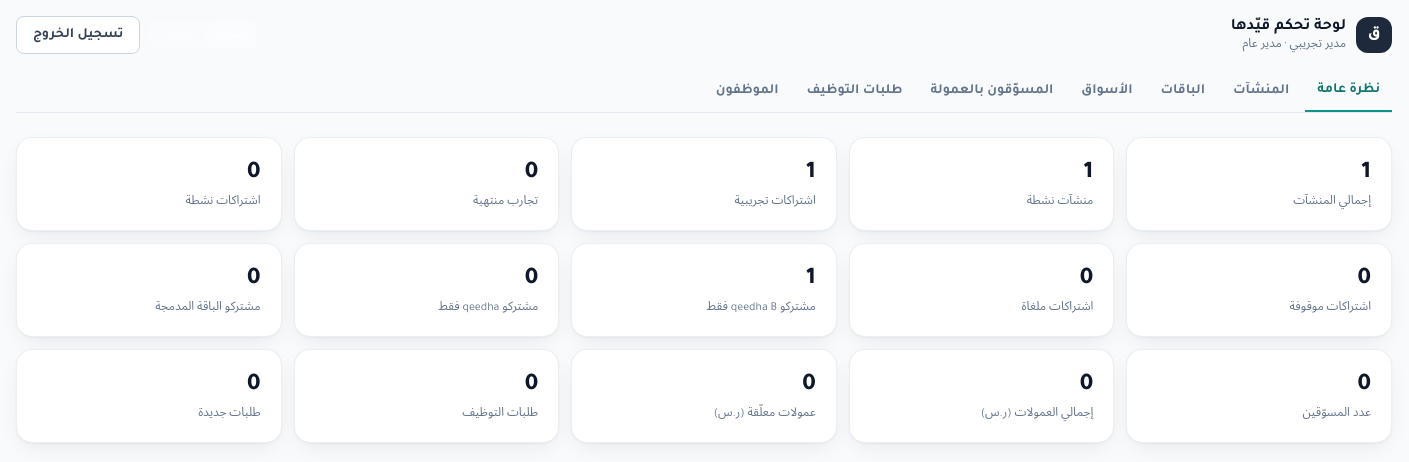
Test: AdminDashboardPage › shows the overview tab by default, then lists companies across every tenant on the Merchants tab
Expected: the text "إجمالي المنشآت" is shown, [1293, 196, 1371, 208]
Click the button "المنشآت". click: (1261, 91)
box: [1221, 70, 1301, 112]
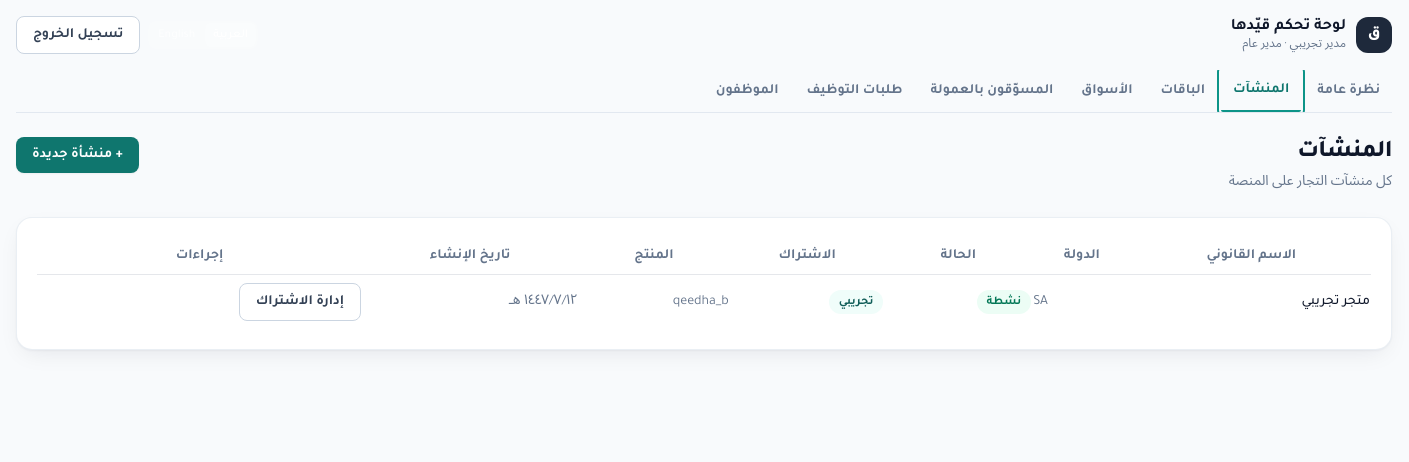
Expected: the text "نشطة" is shown, [977, 290, 1031, 314]
Expected: the text "متجر تجريبي" is shown, [1132, 274, 1371, 329]
